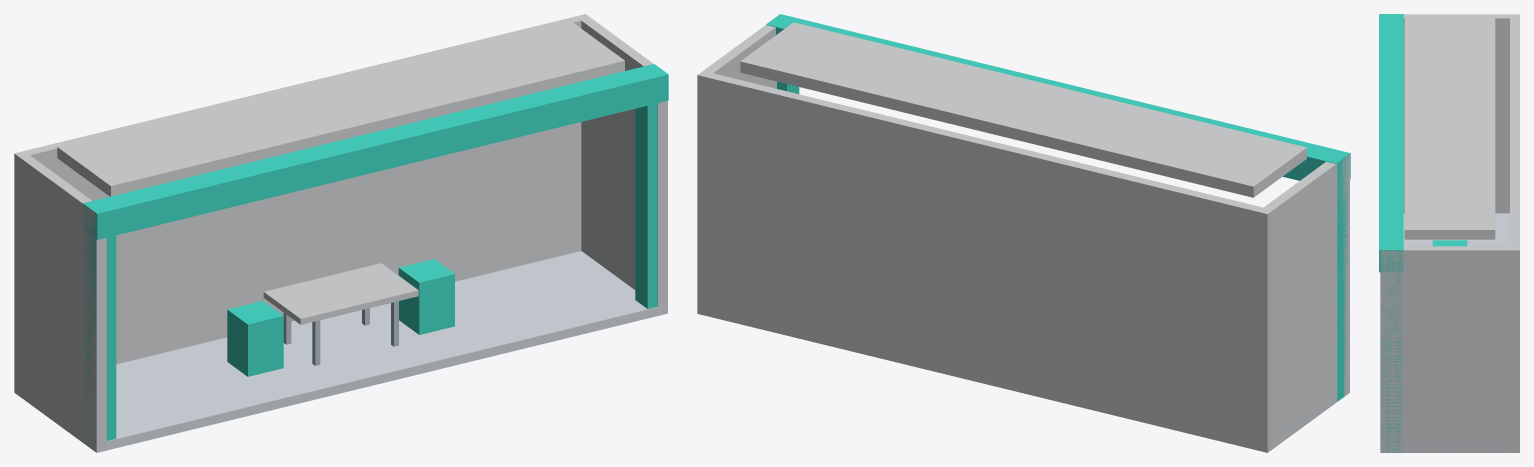
3 views of the same model, side by side, from view 1: azimuth 30°, elevation 25°; view 2: azimuth 150°, elevation 25°; view 3: azimuth 270°, elevation 25° (orthographic). The views are drawn at different scales.
Parts seen in each view (by area): view 1: Exhibition Booth Concept; view 2: Exhibition Booth Concept; view 3: Exhibition Booth Concept.
Part boxes in pixels (x1,y1,x2,y2): Exhibition Booth Concept: (14,14,668,452); Exhibition Booth Concept: (697,14,1350,452); Exhibition Booth Concept: (1379,14,1519,452).
Size of the model in its own units: 8 by 3.34 by 2.01.
